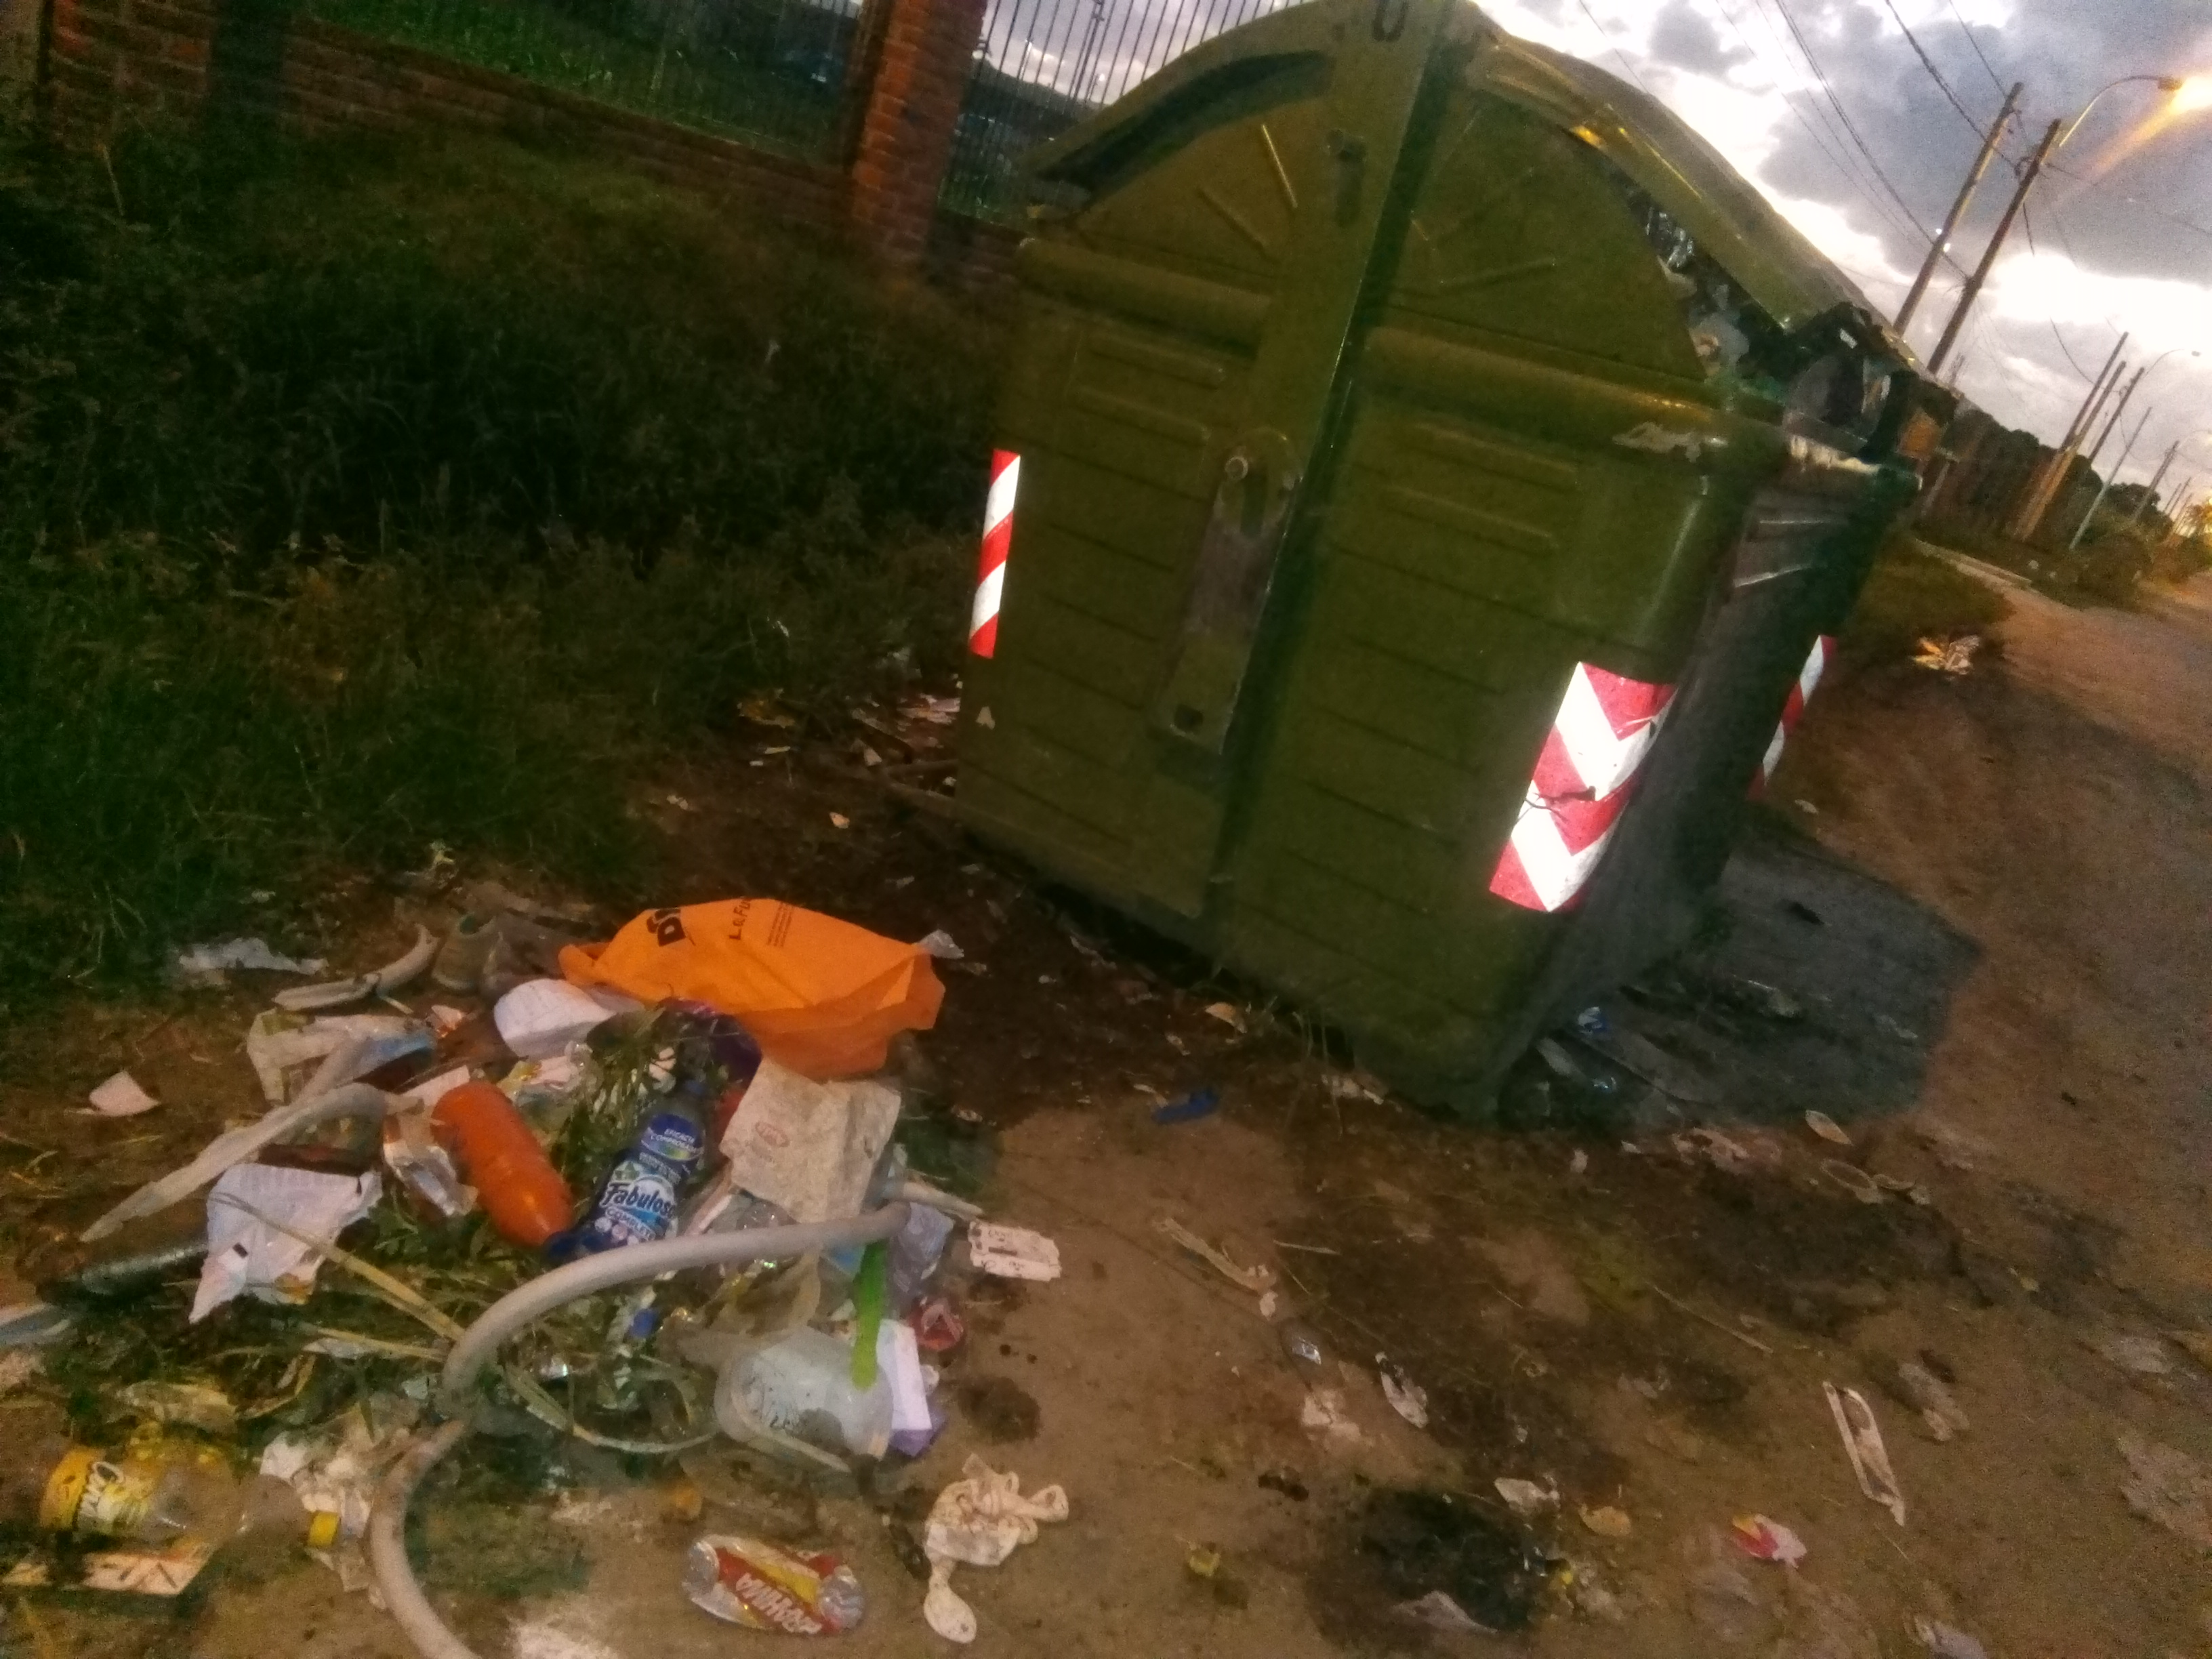container: (949, 3, 1949, 1148)
